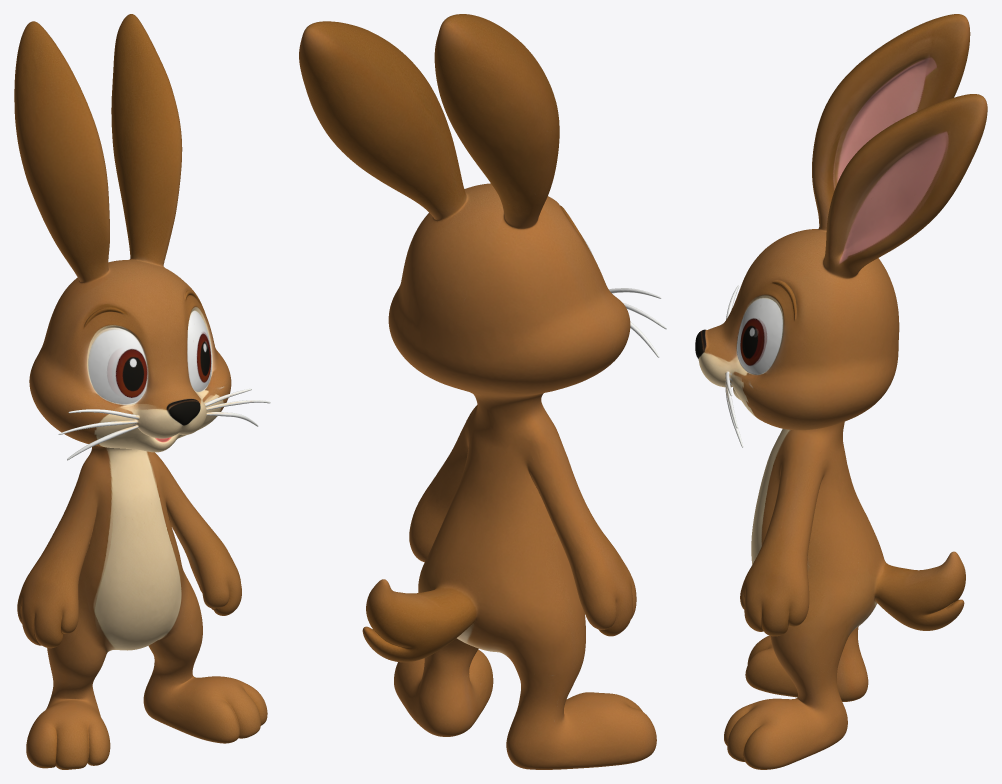
The model's file is liebre.glb.
The picture shows the model from 3 angles, left to right: view 1: azimuth 30°, elevation 25°; view 2: azimuth 150°, elevation 25°; view 3: azimuth 270°, elevation 25°; orthographic projection. The views are drawn at different scales.
Bounding box in the file's own units: 0.673 × 1.9 × 0.7302.
Materials: 1 (1 with a texture image).
